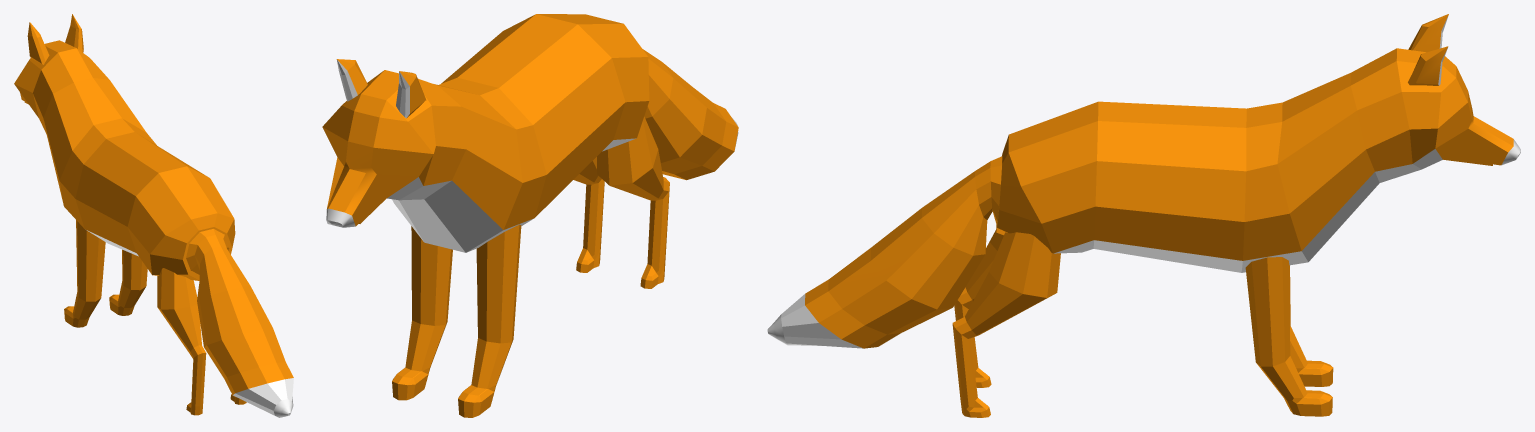
The model's file is foxy.glb.
The picture shows the model from 3 angles, left to right: view 1: azimuth 30°, elevation 25°; view 2: azimuth 150°, elevation 25°; view 3: azimuth 270°, elevation 25°; orthographic projection. The views are drawn at different scales.
Parts seen in each view (by area): view 1: Fox; view 2: Fox; view 3: Fox.
Boxes of the visible parts, bbox=[...] form: Fox: bbox=[14, 14, 293, 417]; Fox: bbox=[322, 14, 738, 417]; Fox: bbox=[767, 14, 1520, 417].
Bounding box in the file's own units: 1.74 × 4.77 × 8.73.
